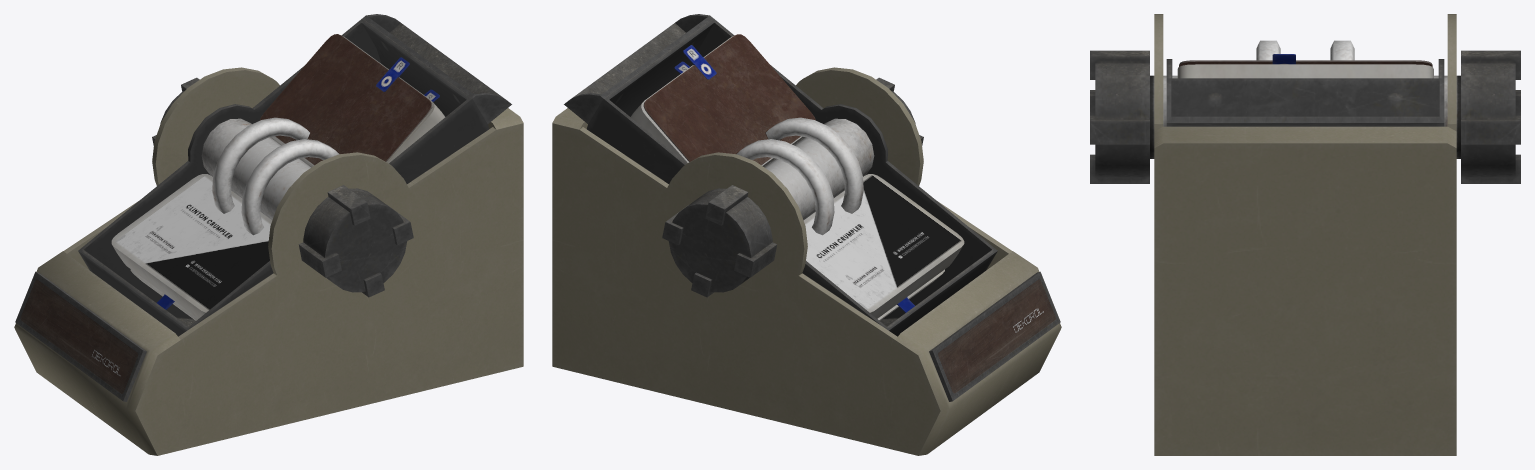
The model's file is SM_Rolodex_01b.fbx.
3 renders of one model, left to right at view 1: azimuth 30°, elevation 25°; view 2: azimuth 150°, elevation 25°; view 3: azimuth 270°, elevation 25°, orthographic. The views are drawn at different scales.
Visible parts, largest first — view 1: SM_Rolodex_01b_LOD0; view 2: SM_Rolodex_01b_LOD0; view 3: SM_Rolodex_01b_LOD0.
Boxes of the visible parts, x1=… form: SM_Rolodex_01b_LOD0: x1=14, y1=14, x2=523, y2=455; SM_Rolodex_01b_LOD0: x1=552, y1=14, x2=1061, y2=455; SM_Rolodex_01b_LOD0: x1=1090, y1=14, x2=1520, y2=455.
Bounding box in the file's own units: 21.38 × 15.99 × 14.76.
